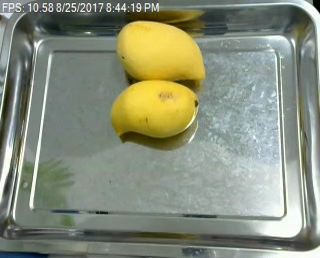Mango: (108, 75, 203, 146), (112, 16, 208, 86)
